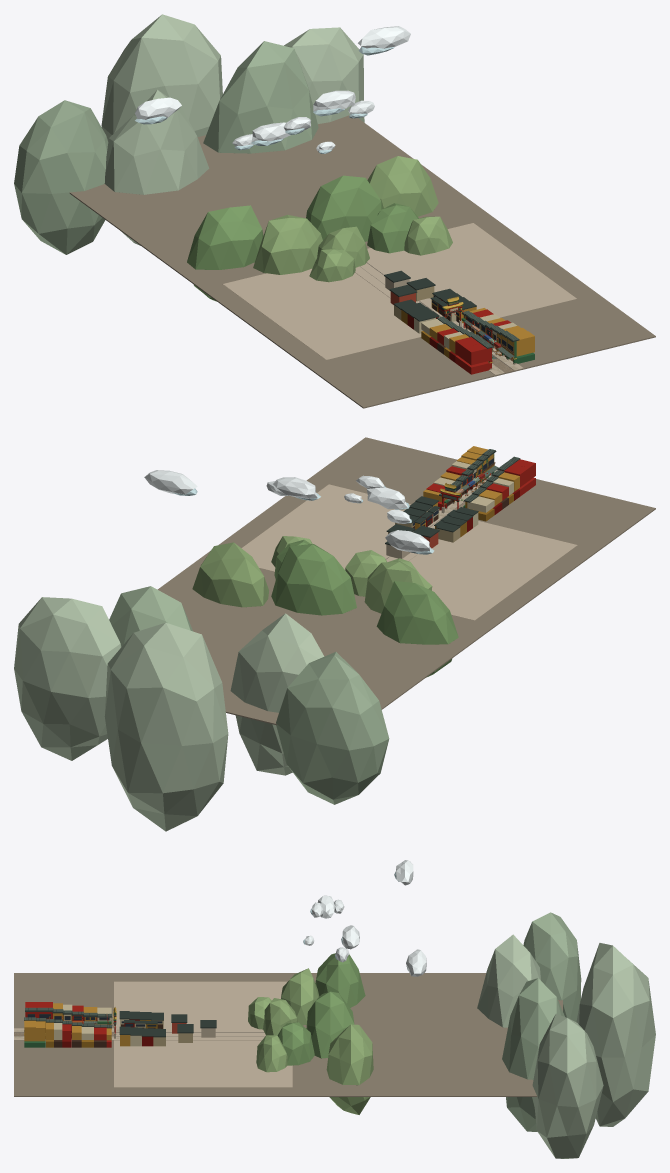
The model's file is chinatown-street.glb.
3 renders of one model, top to bottom at view 1: azimuth 30°, elevation 25°; view 2: azimuth 150°, elevation 25°; view 3: azimuth 270°, elevation 25°, orthographic. The views are drawn at different scales.
Visible parts, largest first — view 1: Hills, Ground, FarTown, Clouds, ShopR0, ShopL0; view 2: Hills, Ground, FarTown, Clouds; view 3: Hills, Ground, FarTown, Clouds.
Boxes of the visible parts, x1,y1,x2,y2 form: Hills: (14,14,452,301); Ground: (69,115,655,408); FarTown: (223,223,576,359); Clouds: (135,26,410,153); ShopR0: (503,331,534,364); ShopL0: (464,341,496,374); Hills: (14,536,458,831); Ground: (157,437,655,725); FarTown: (241,484,577,620); Clouds: (144,470,434,554); Hills: (248,912,655,1158); Ground: (14,973,562,1096); FarTown: (114,981,292,1087); Clouds: (303,860,426,976).
Size of what is drawn, in the model's own units: 171 by 116 by 309.
